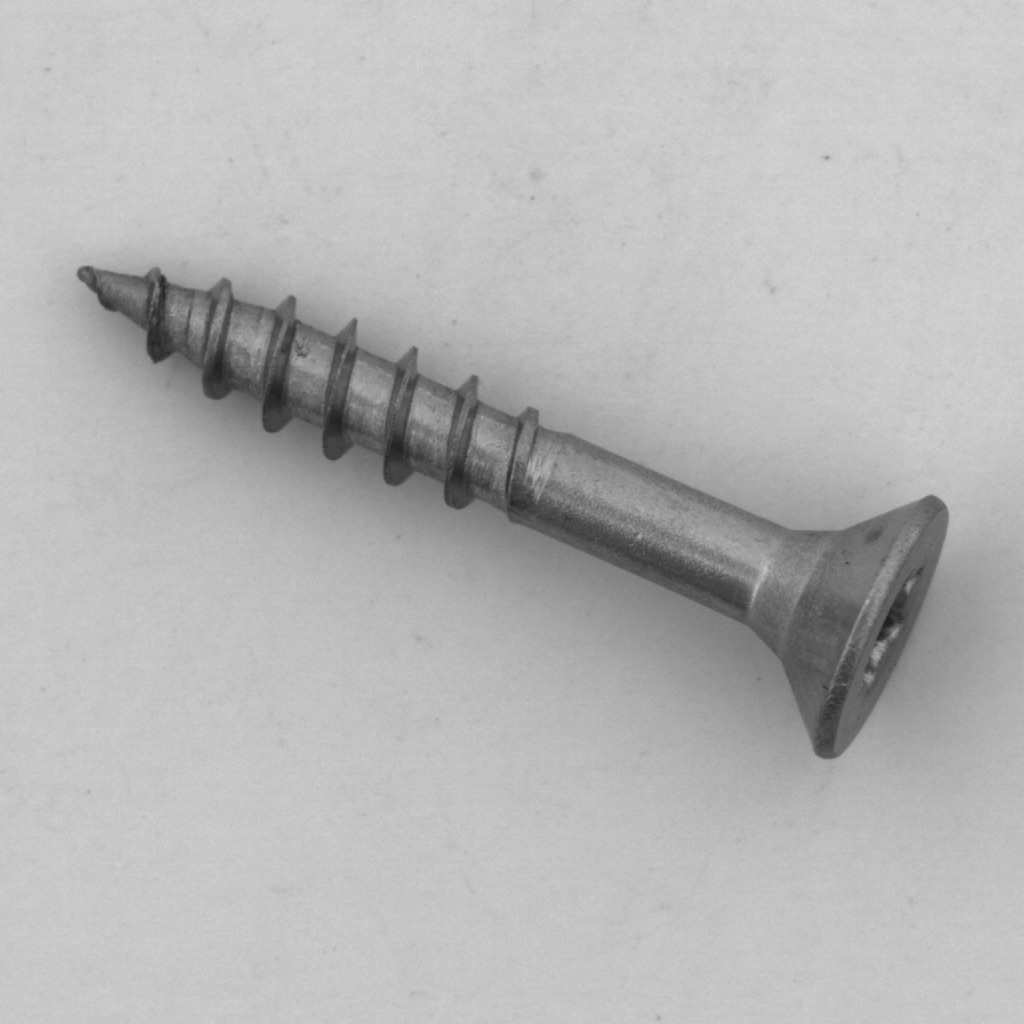good: (62, 243, 964, 781)
